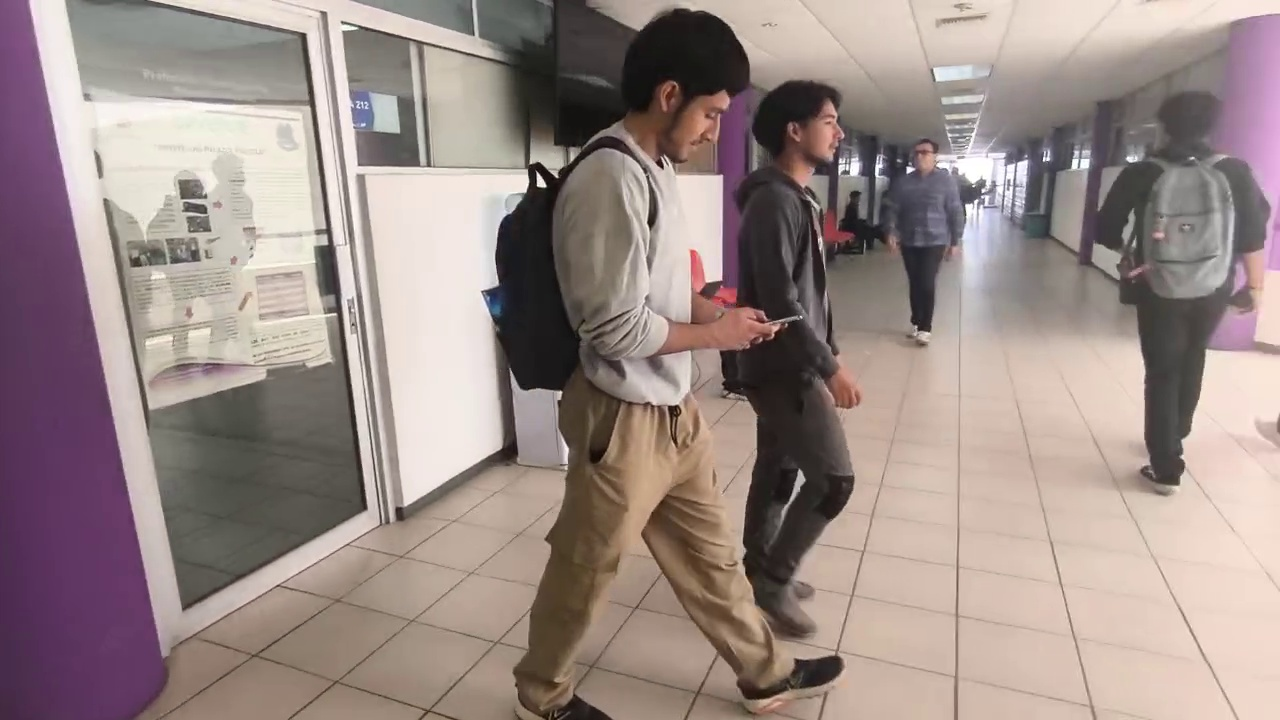mixto2: (762, 311, 810, 329)
